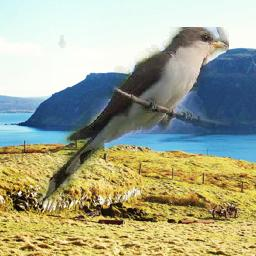Cuckoo: (39, 27, 229, 205)
